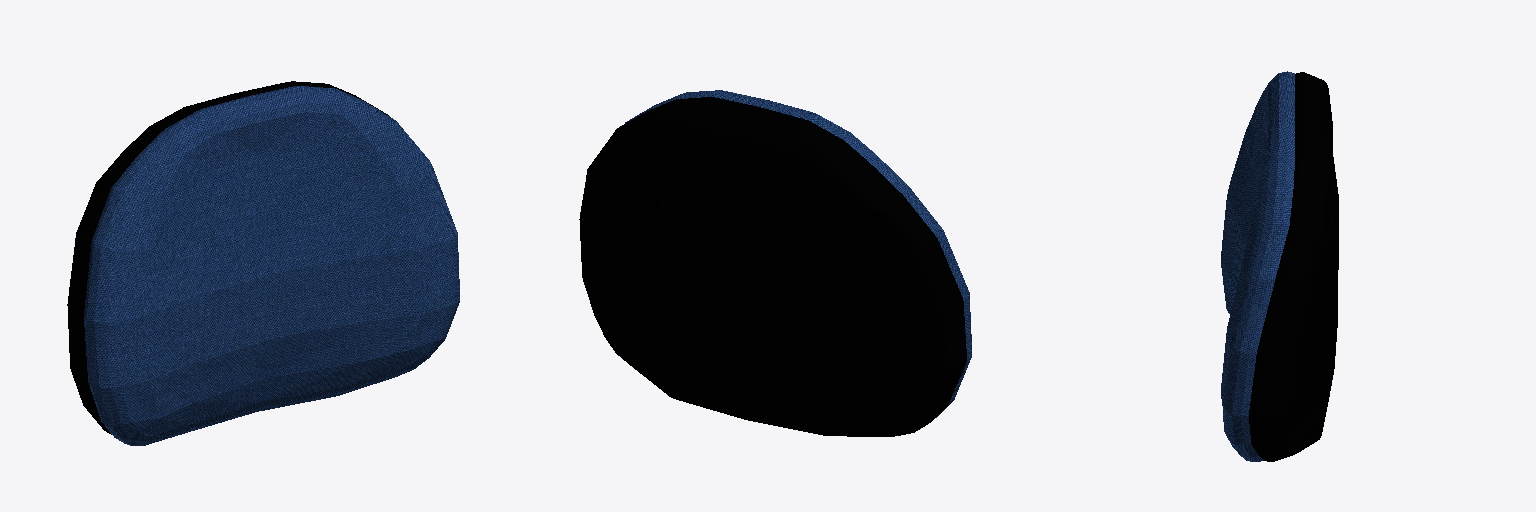
The picture shows the model from 3 angles: view 1: azimuth 30°, elevation 25°; view 2: azimuth 150°, elevation 25°; view 3: azimuth 270°, elevation 25°; orthographic projection.
Visible parts, largest first — view 1: part19:backrest 1; view 2: part19:backrest 1; view 3: part19:backrest 1.
Boxes of the visible parts, x1,y1,x2,y2 form: part19:backrest 1: [67, 81, 459, 445]; part19:backrest 1: [579, 90, 971, 436]; part19:backrest 1: [1221, 71, 1338, 461].
Bounding box in the file's own units: 0.3675 × 0.2949 × 0.1015.
2 materials, 1 textured.